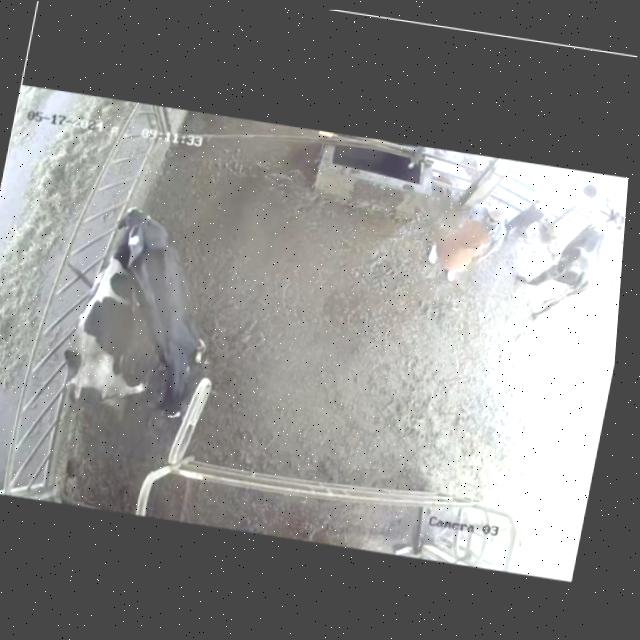stand: (78, 197, 245, 425), (43, 230, 179, 435), (504, 191, 627, 350)
